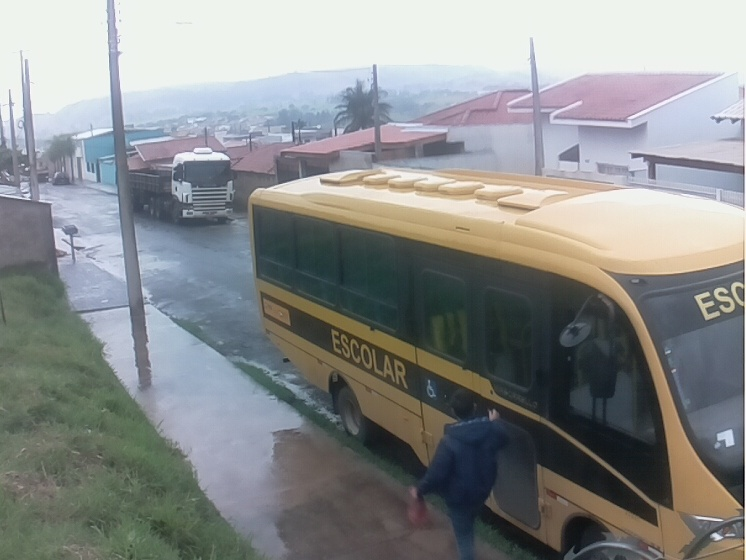person: (410, 386, 508, 560)
